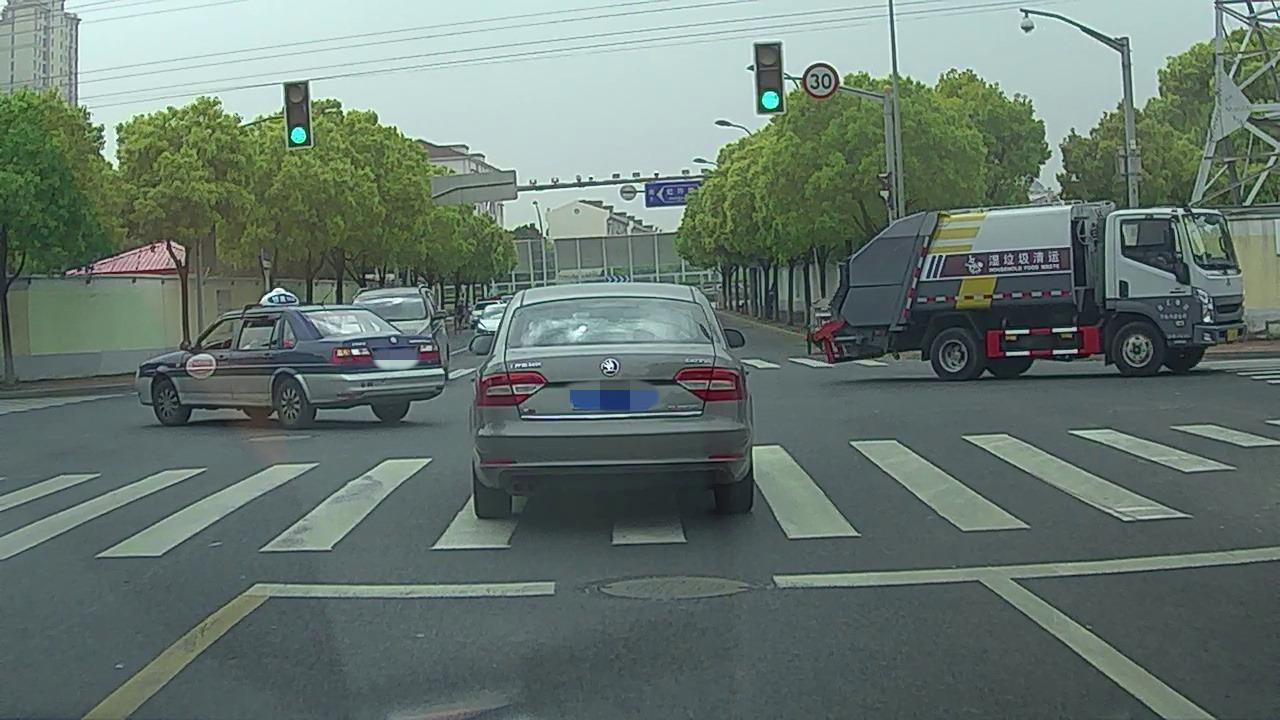traffic_light: (753, 42, 785, 114), (283, 83, 312, 149)
